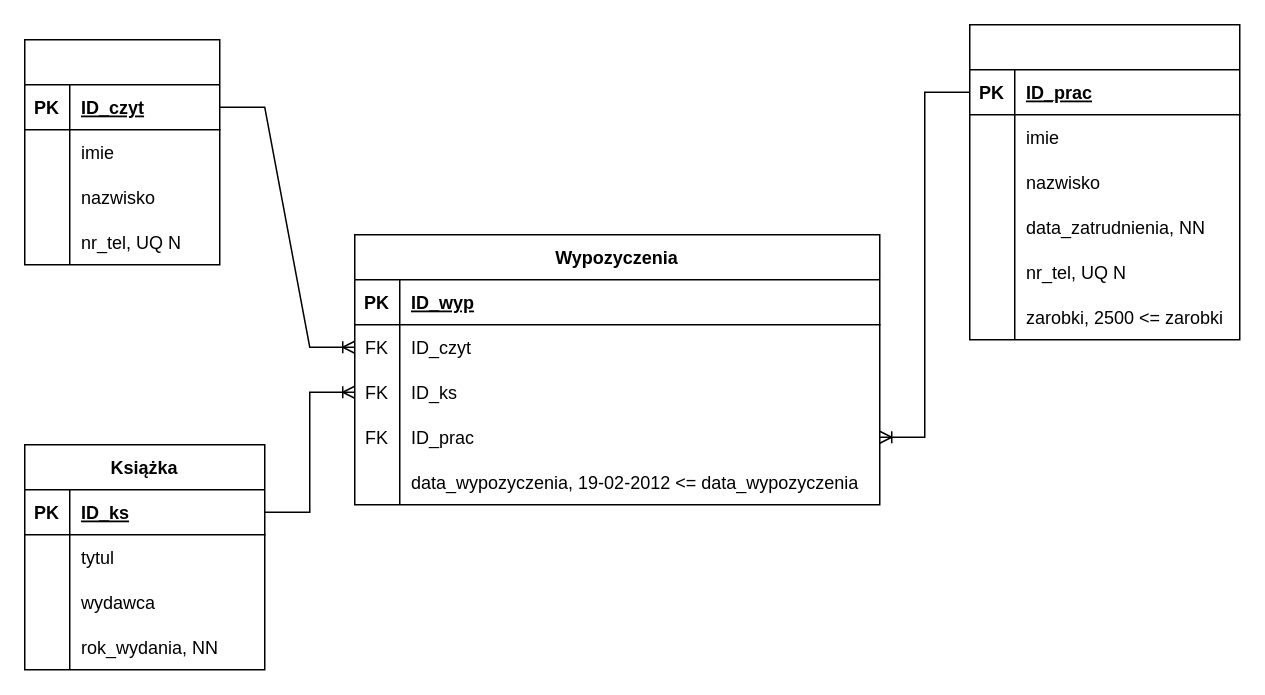
Some shapes in this 1265 by 695 pixel diagram are drawn without their labels. The shapes that lost their labels are listed below. From the top down, each one's box as (x1, y1, x2, y2) in pixels, then its label:
(23, 38, 220, 265): Czytelnik
(968, 23, 1240, 340): Pracownik
